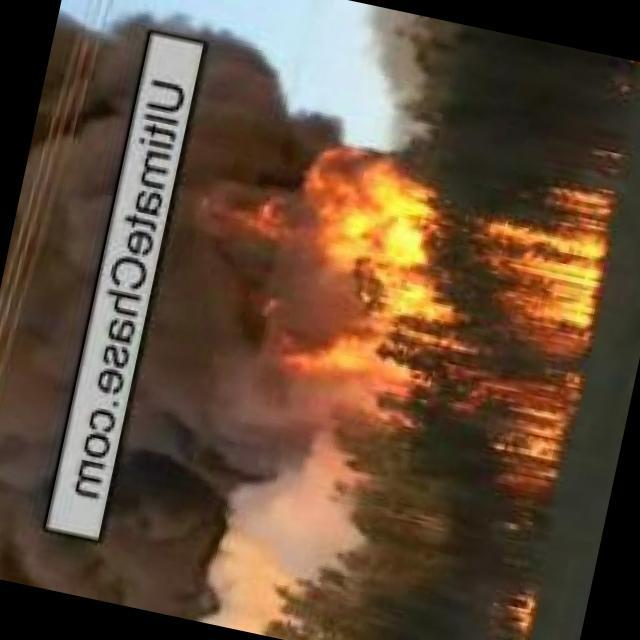Fire: (204, 134, 616, 506), (485, 577, 540, 640)
